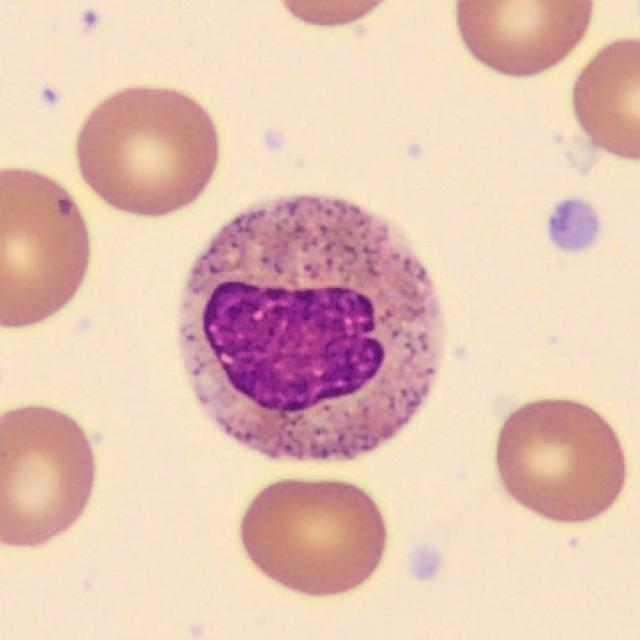Neutrofilo segmentado: (177, 197, 445, 463)
